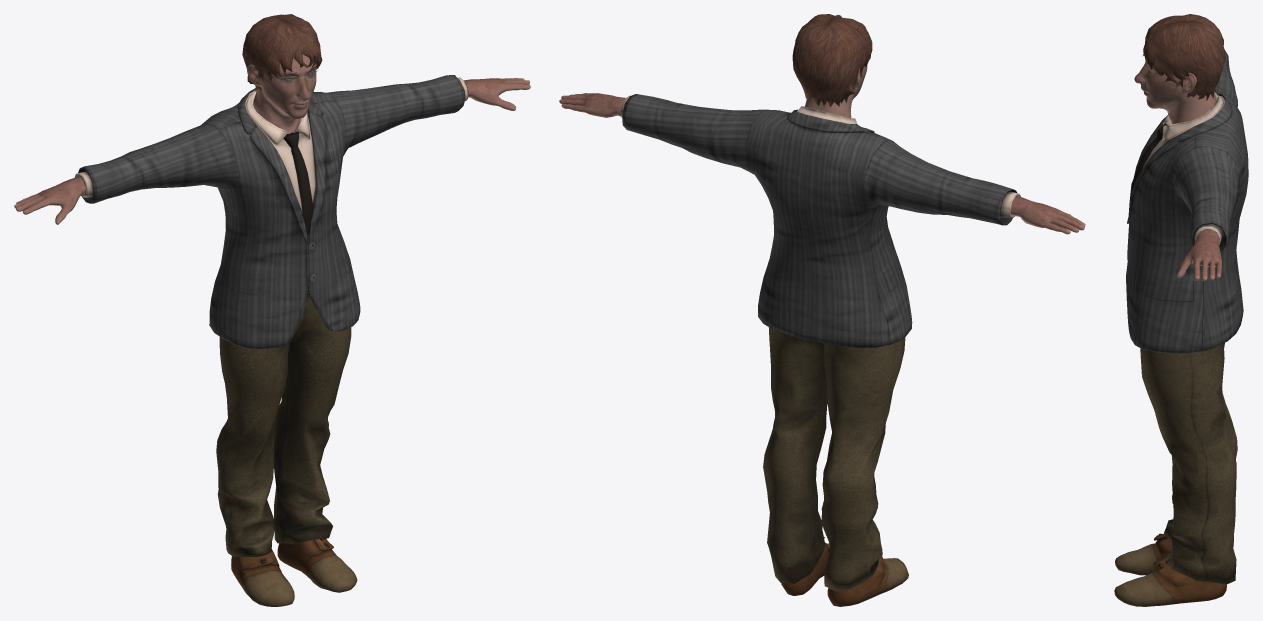
Rendered from Man C.obj.
3 renders of one model, left to right at view 1: azimuth 30°, elevation 25°; view 2: azimuth 150°, elevation 25°; view 3: azimuth 270°, elevation 25°, orthographic.
Visible parts, largest first — view 1: Tops, Bottoms, Body, Shoes, Hair; view 2: Tops, Bottoms, Hair, Body, Shoes; view 3: Tops, Bottoms, Hair, Shoes, Body.
Part boxes in pixels (x1,y1,x2,y2): Tops: (74,75,468,349); Bottoms: (216,285,351,557); Body: (14,54,530,224); Shoes: (231,535,357,606); Hair: (242,14,322,91); Tops: (620,94,1020,347); Bottoms: (763,327,905,591); Hair: (792,14,872,107); Body: (559,65,1085,234); Shoes: (781,537,908,606); Tops: (1126,49,1248,353); Bottoms: (1140,342,1237,584); Hair: (1142,14,1225,101); Shoes: (1114,533,1226,606); Body: (1134,33,1221,281).
Bounding box in the file's own units: 170 × 176 × 37.96.
Materials: 5 (5 with a texture image).
